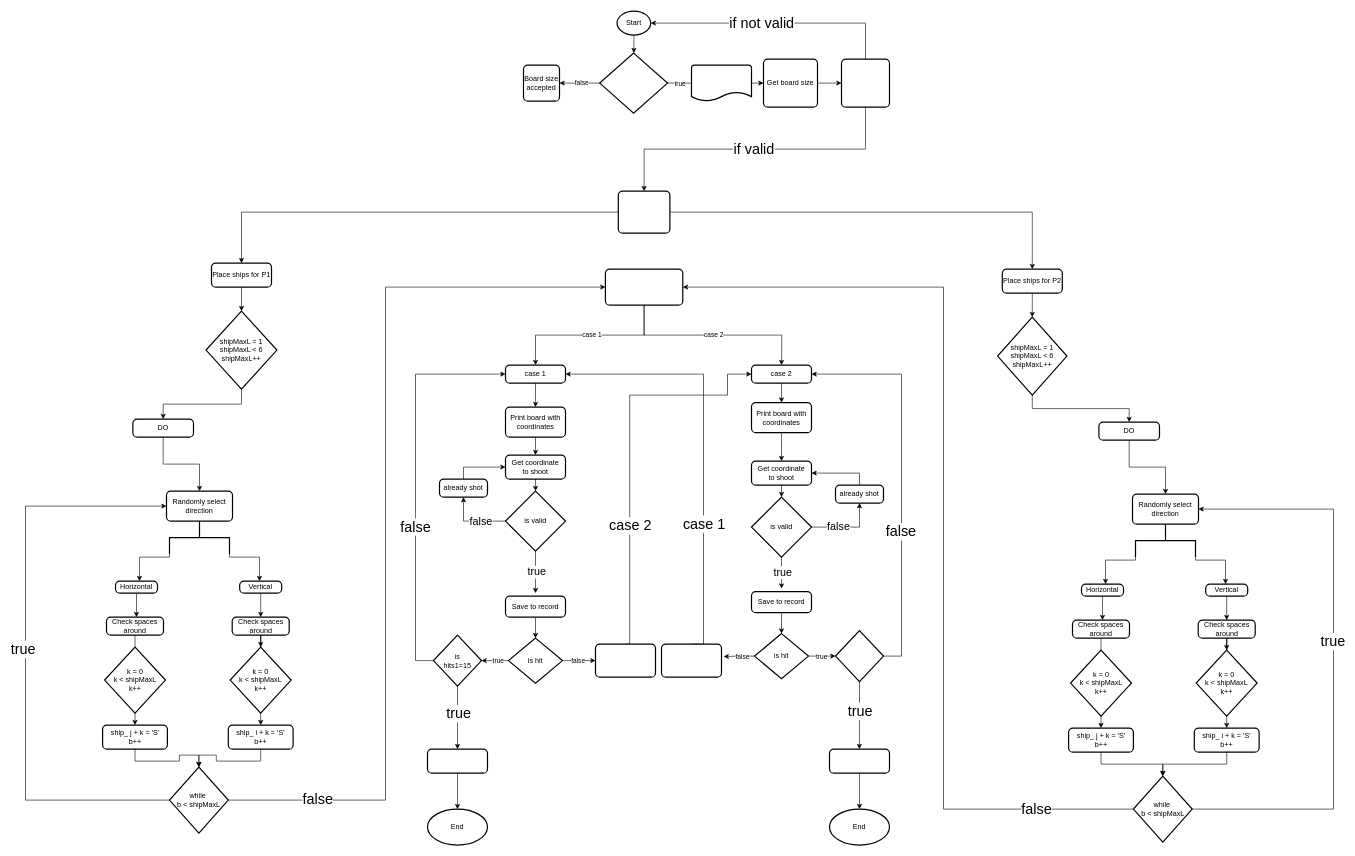
Some shapes in this 1355 by 856 pixel diagram are drawn without their labels. The centre of each missing label's shape, as x and y in pixels:
"Check input" goes at (865,82).
"Fill visible boards with dots" goes at (643,211).
"gameLoop" goes at (643,286).
"Greet users and give game rules" goes at (721,82).
"is hits2=15" goes at (859,656).
"is ROW and COLUMN < 10" goes at (633,82).
"Miss, turn = 1" goes at (691,660).
"Miss, turn = 2" goes at (625,660).
"P1 Wins" goes at (457,760).
"P2 Wins" goes at (859,760).
